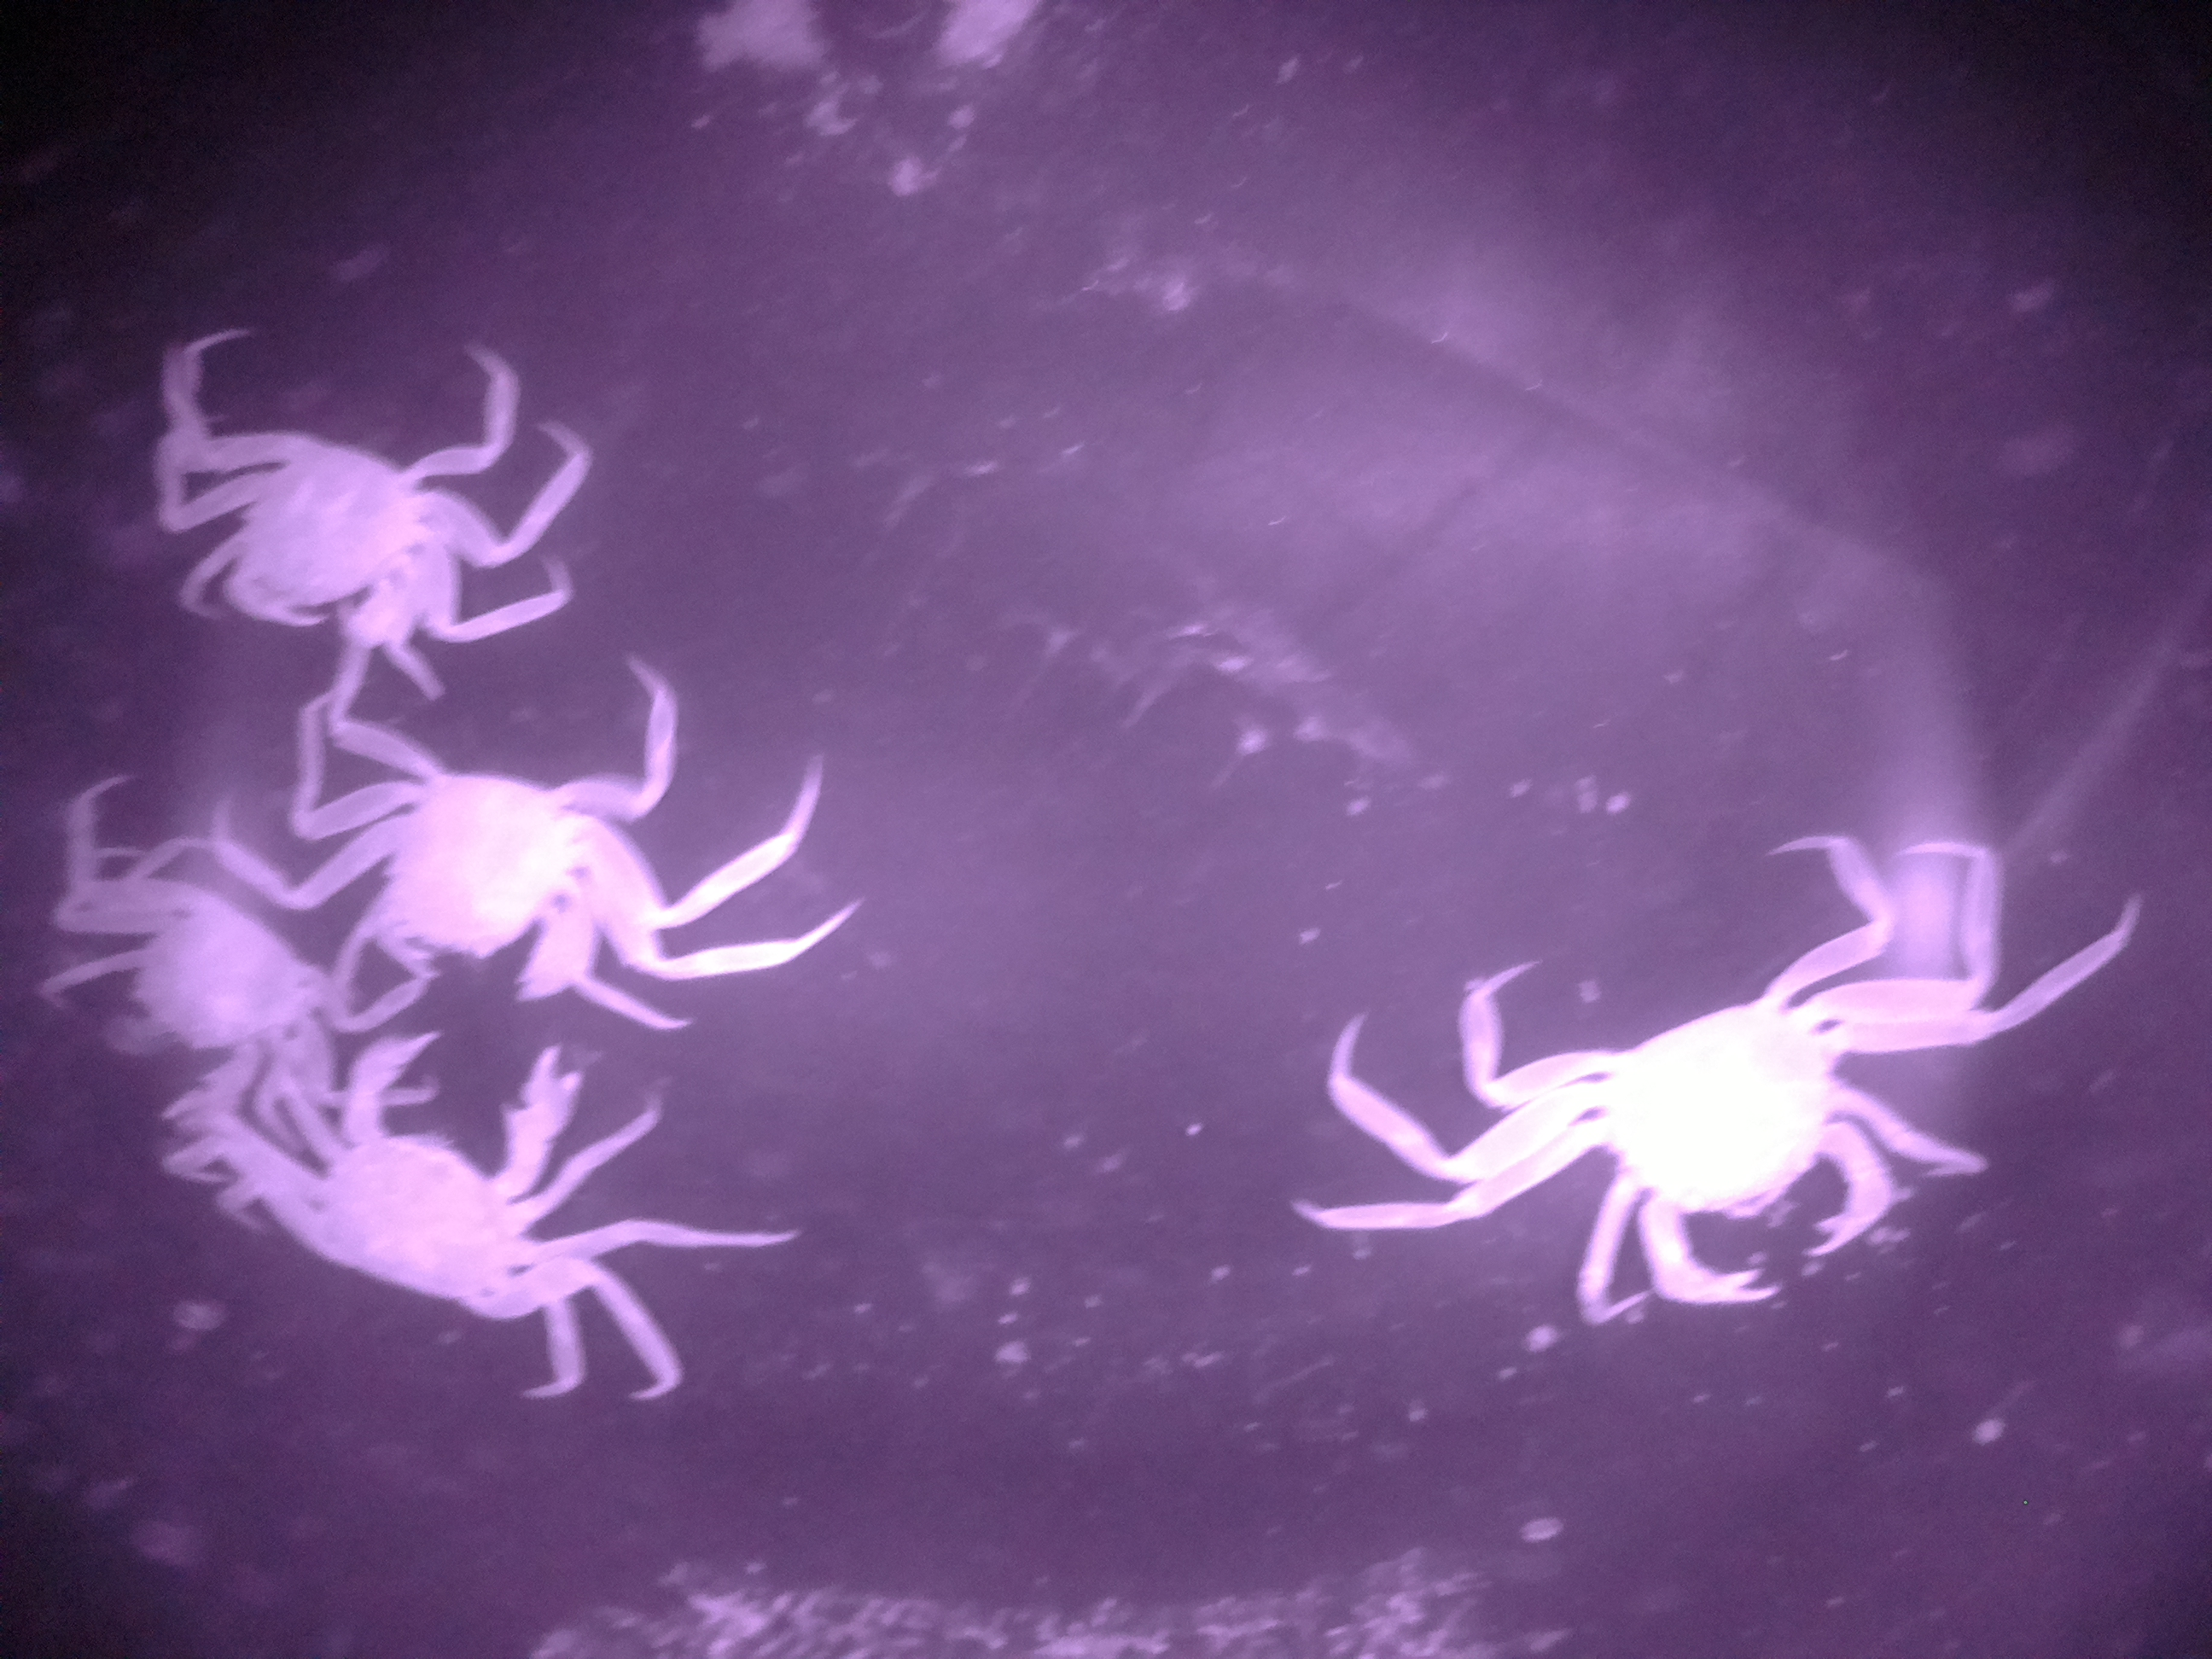Crab: (1352, 877, 2085, 1363), (212, 664, 883, 1061), (98, 293, 613, 699), (206, 993, 577, 1384)
